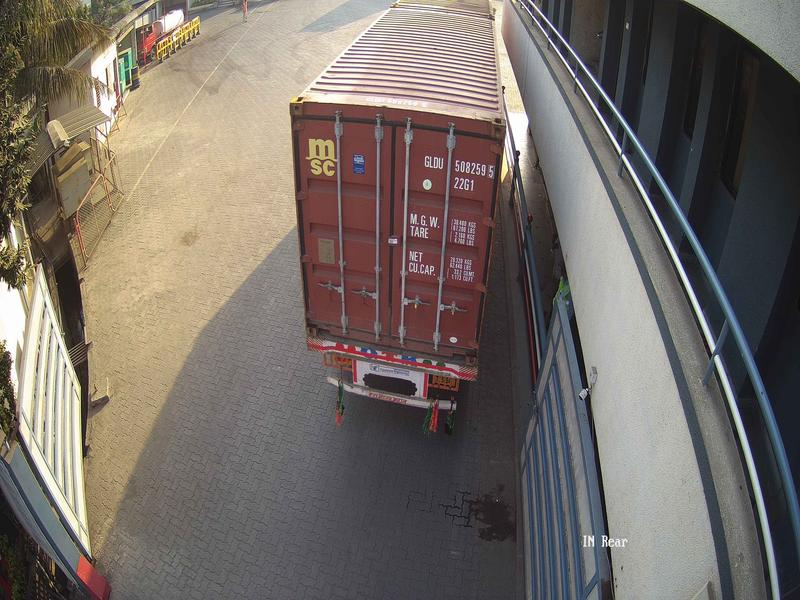container: (287, 92, 502, 372)
